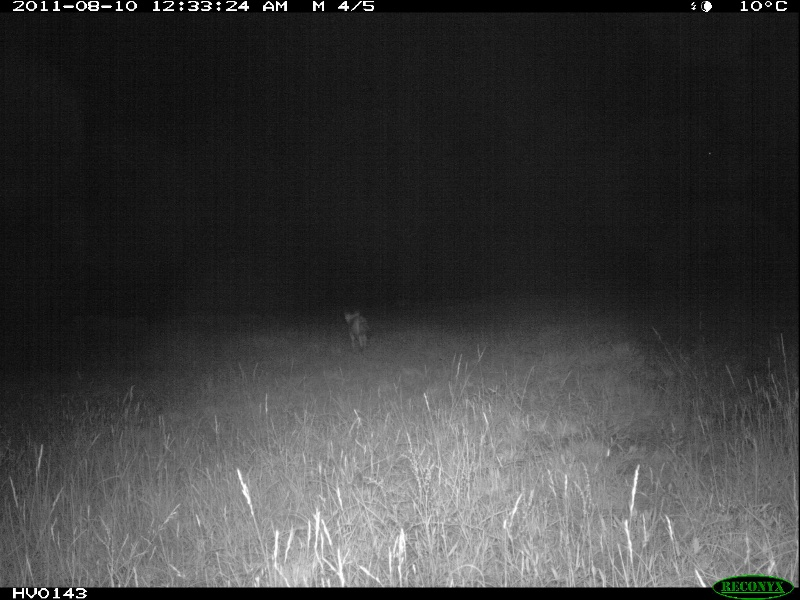fox: (340, 309, 373, 348)
